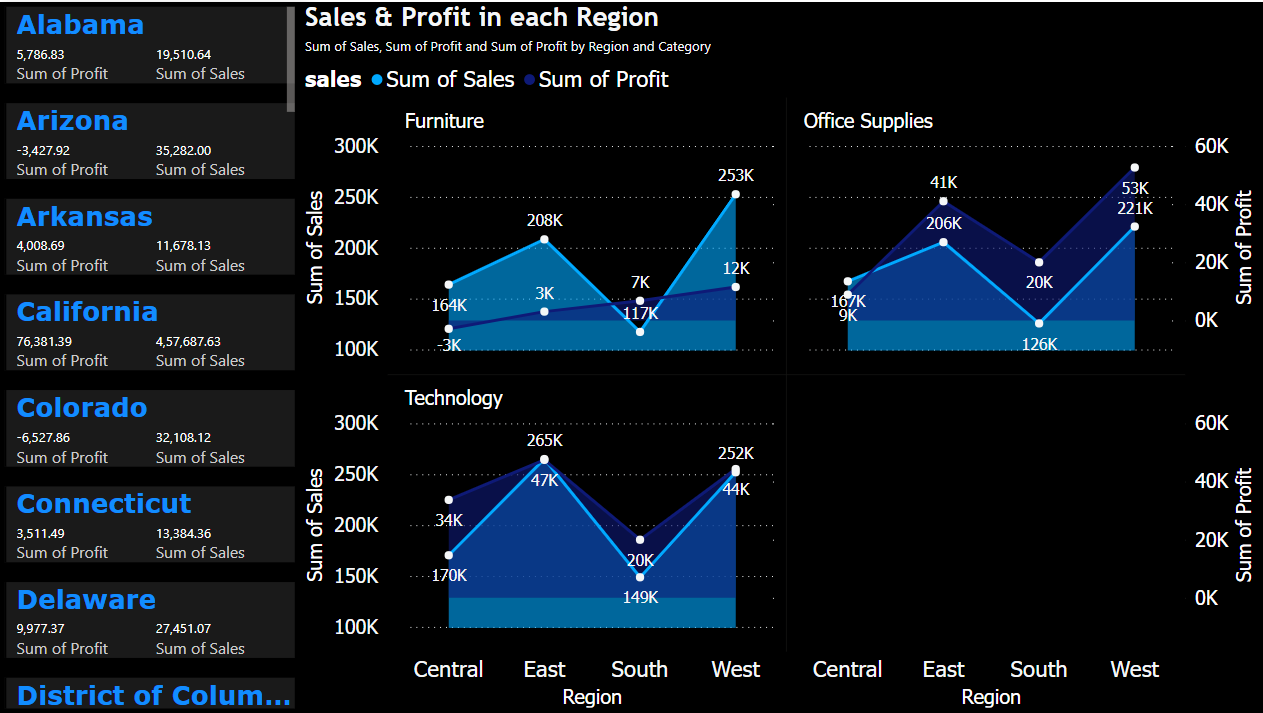

The page's visual inventory and layout, read from the dashboard file:
{"tool":"powerbi","page":{"name":"Page 1","canvas":[1280,720],"ordinal":0},"visuals":[{"type":"multiRowCard","fields":{"Values":["Orders.State","Sum(Orders.Profit)","Sum(Orders.Sales)"]},"box":[0,0,303.7,720],"z":0},{"type":"areaChart","title":"Sales & Profit in each Region ","fields":{"Category":["Orders.Region"],"Y":["Sum(Orders.Sales)"],"Rows":["Orders.Category"],"Y2":["Sum(Orders.Profit)"]},"box":[304.3,0,975.7,720],"z":1000}]}

Visuals, with their boxes in screenshot pixels (x1, y1, x2, y2), scaled from the page's 1280x720 canvas onto the 1263x713 screenshot:
multiRowCard - Orders.State x Sum(Orders.Profit): 0 0 300 712
"Sales & Profit in each Region " areaChart: 300 0 1262 712
